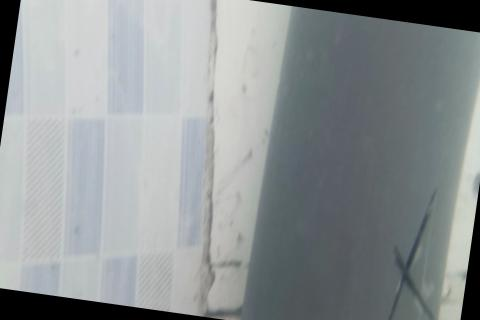keretakan: (378, 177, 454, 320)
